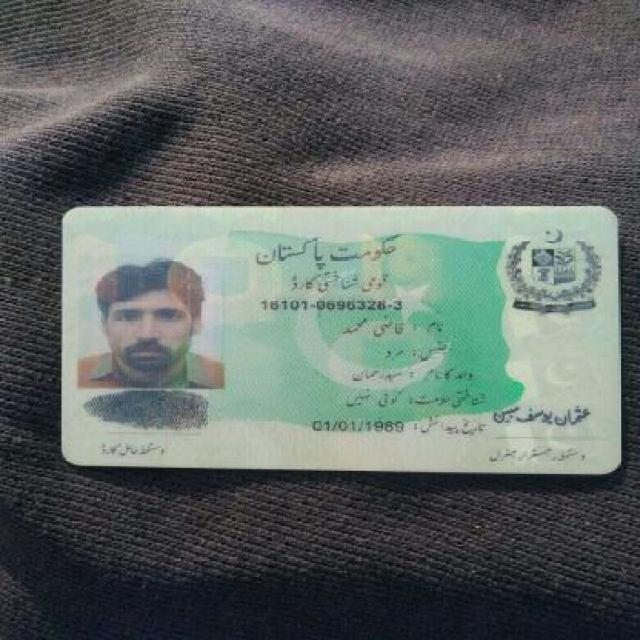Front: (57, 202, 625, 478)
